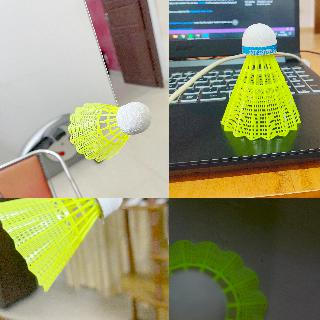shuttlecock: (0, 198, 123, 292), (219, 22, 303, 140), (169, 240, 267, 319), (68, 101, 150, 161)
